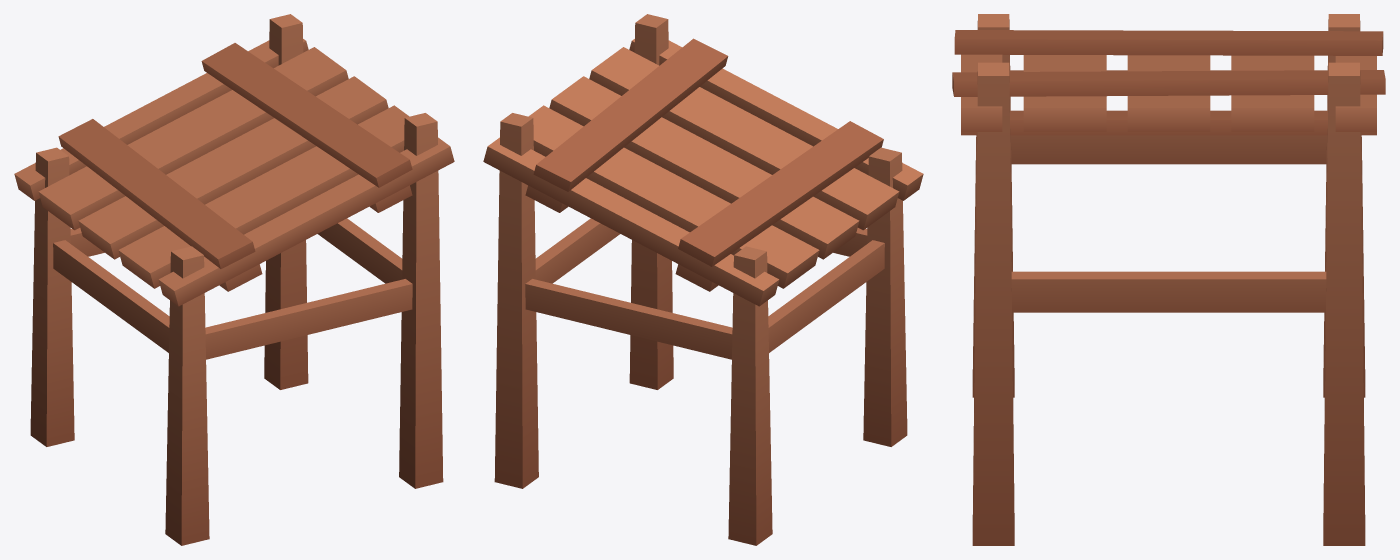
File: structure-roof.glb
3 views of the same model, side by side, from view 1: azimuth 30°, elevation 25°; view 2: azimuth 150°, elevation 25°; view 3: azimuth 270°, elevation 25° (orthographic). The views are drawn at different scales.
Parts seen in each view (by area): view 1: Group, structure-roof; view 2: Group, structure-roof; view 3: structure-roof, Group.
Part boxes in pixels (x1,y1,x2,y2): Group: [14, 39, 454, 306]; structure-roof: [30, 14, 443, 545]; Group: [483, 38, 923, 306]; structure-roof: [494, 14, 907, 545]; structure-roof: [972, 14, 1365, 545]; Group: [952, 30, 1385, 135].
Size of the model in its own units: 0.5355 by 0.6572 by 0.5519.
